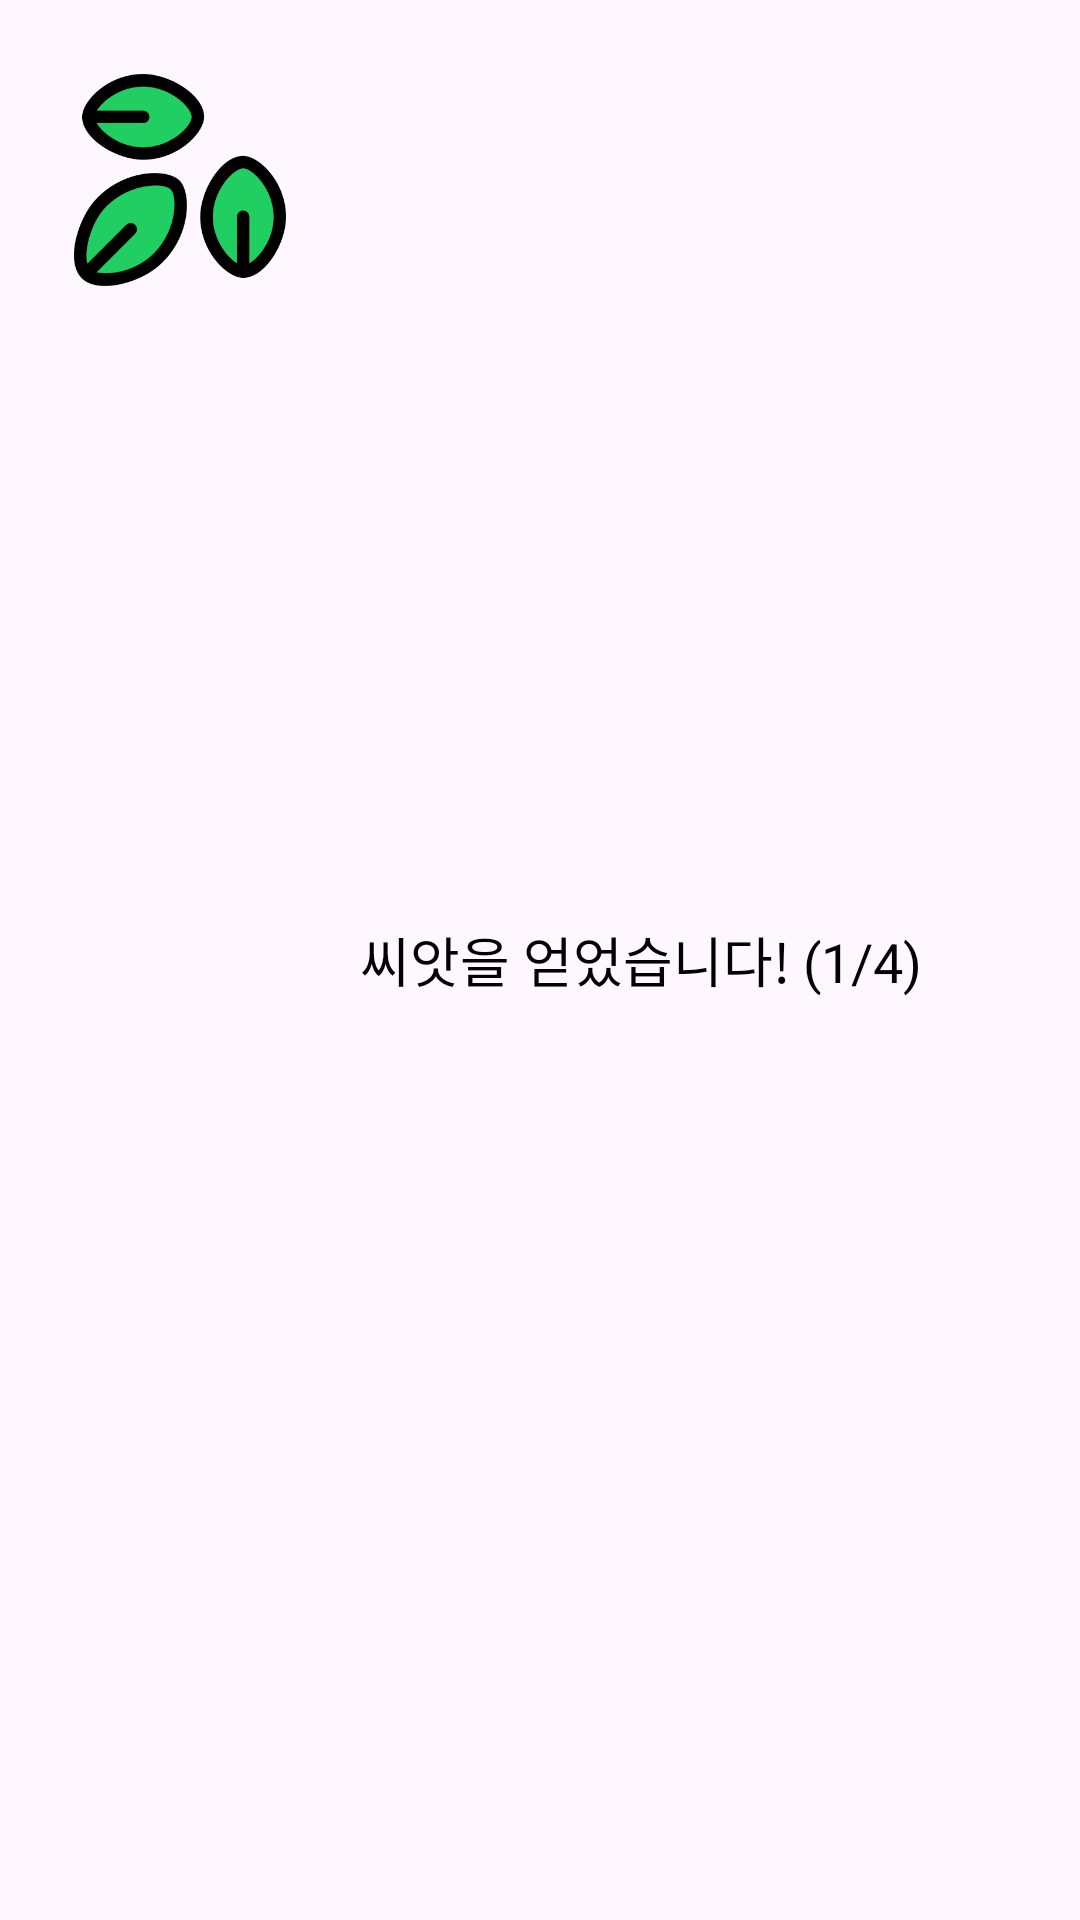

Locate icon controls on the screen. Image size 1080*1920, boxes as (x1, y1, x2, y2).
seeds: (74, 74, 286, 286)
